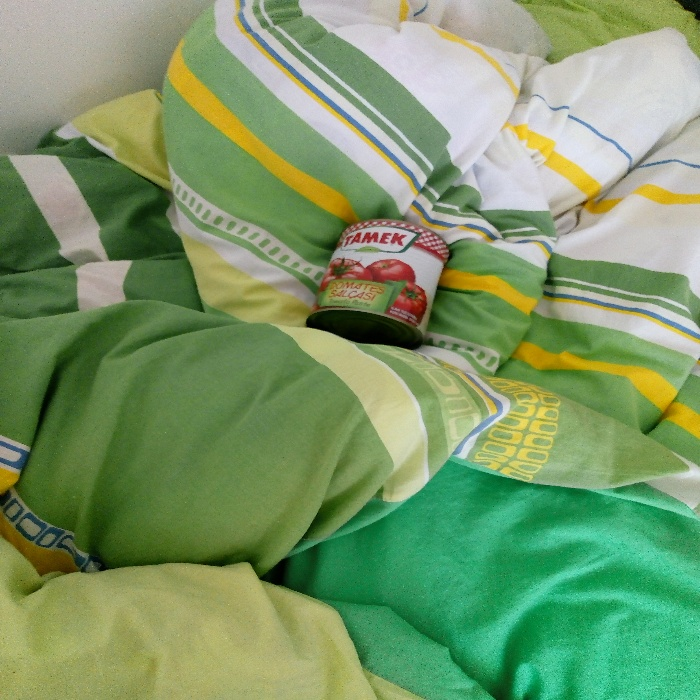salca: (307, 205, 451, 338)
